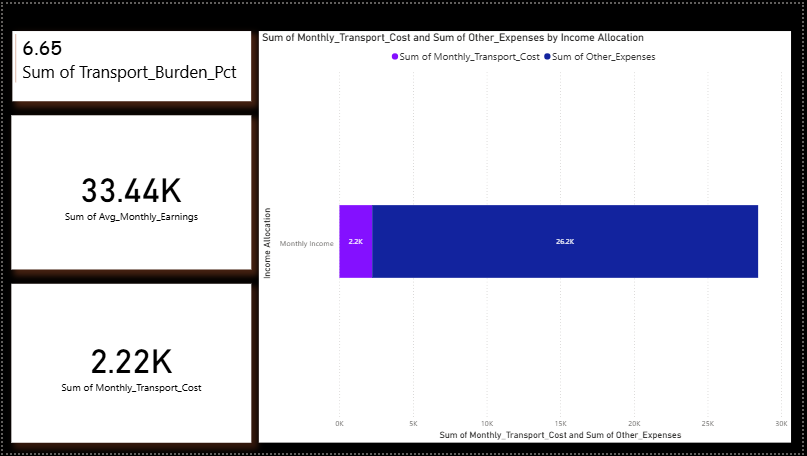

The page's visual inventory and layout, read from the dashboard file:
{"tool":"powerbi","page":{"name":"Executive Summary (using Transport_Burden)","canvas":[1280,720],"ordinal":0},"visuals":[{"type":"multiRowCard","fields":{"Values":["Sum(week2_enhanced_powerbi.Transport_Burden_Pct)"]},"box":[15,42.5,382.5,112.5],"z":0},{"type":"card","fields":{"Values":["Sum(week2_enhanced_powerbi.Avg_Monthly_Earnings)"]},"box":[12.5,177.5,385,247.5],"z":1000},{"type":"card","fields":{"Values":["Sum(week2_enhanced_powerbi.Monthly_Transport_Cost)"]},"box":[12.5,447.5,385,255],"z":2000},{"type":"barChart","fields":{"Y":["Sum(week2_enhanced_powerbi.Monthly_Transport_Cost)","Sum(week2_enhanced_powerbi.Other_Expenses)"],"Category":["week2_enhanced_powerbi.Income Allocation"]},"box":[410,42.5,852.5,660],"z":3000}]}

Visuals, with their boxes in screenshot pixels (x1, y1, x2, y2), scaled from the page's 1280x720 canvas onto the 807x456 screenshot:
multiRowCard - Sum(week2_enhanced_powerbi.Transport_Burden_Pct): left=9, top=27, right=251, bottom=98
card - Sum(week2_enhanced_powerbi.Avg_Monthly_Earnings): left=8, top=112, right=251, bottom=269
card - Sum(week2_enhanced_powerbi.Monthly_Transport_Cost): left=8, top=283, right=251, bottom=445
barChart - Sum(week2_enhanced_powerbi.Monthly_Transport_Cost) x Sum(week2_enhanced_powerbi.Other_Expenses): left=258, top=27, right=796, bottom=445
